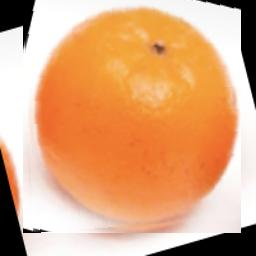Orange Fresh: (23, 0, 241, 233)
